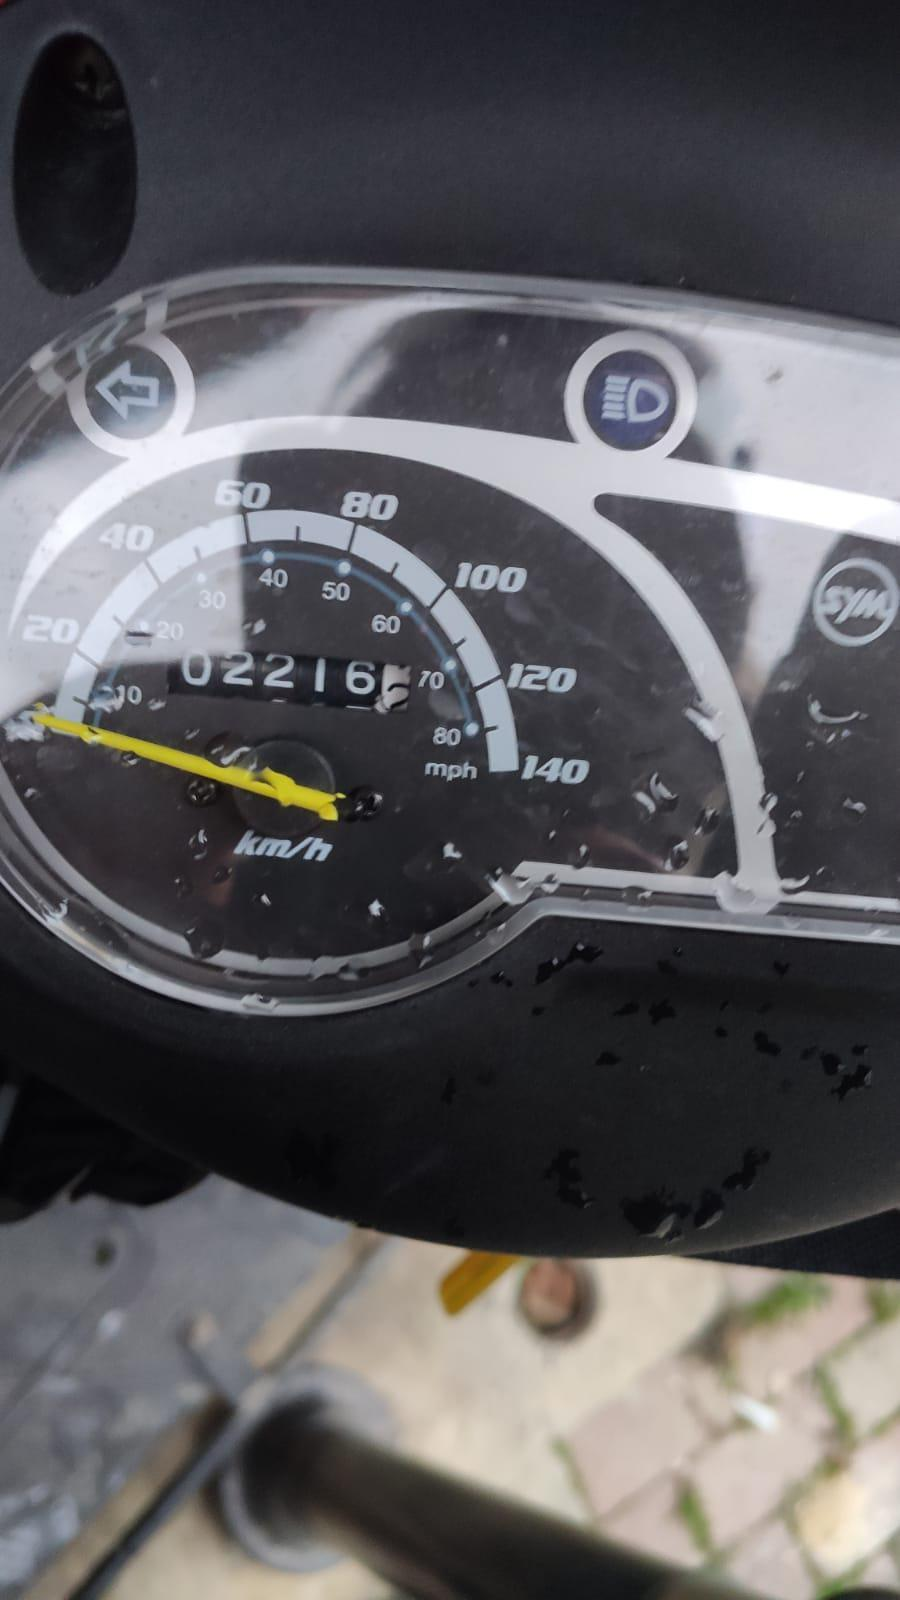0: (180, 644, 213, 691)
1: (312, 653, 330, 696)
2: (221, 645, 255, 691), (384, 679, 416, 718), (263, 649, 293, 690)
6: (342, 654, 378, 696)
7: (418, 666, 429, 687)
odometer: (164, 635, 427, 726)
